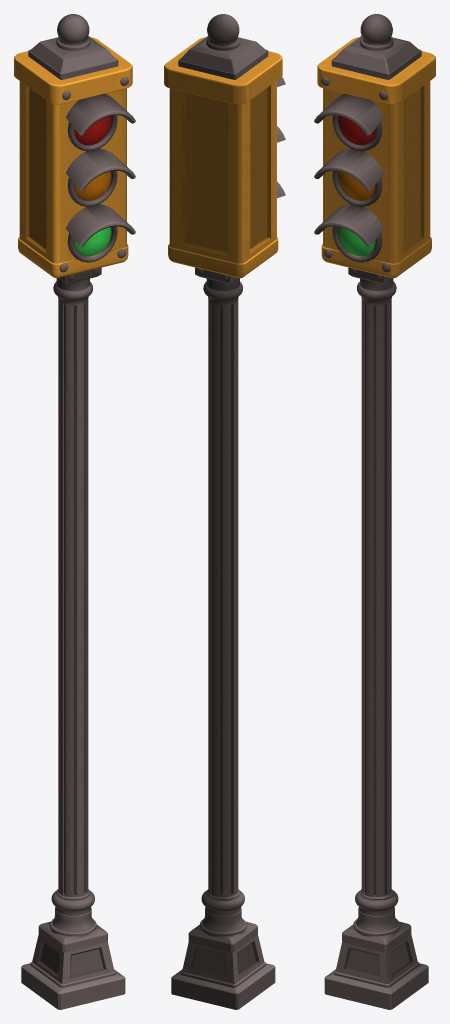
The model's file is houdini_residential_traffic_light.glb.
The picture shows the model from 3 angles, left to right: view 1: azimuth 30°, elevation 25°; view 2: azimuth 150°, elevation 25°; view 3: azimuth 330°, elevation 25°; orthographic projection.
Parts seen in each view (by area): view 1: LOD0; view 2: LOD0; view 3: LOD0.
Boxes of the visible parts, x1,y1,x2,y2 form: LOD0: (14, 14, 135, 1009); LOD0: (164, 14, 285, 1009); LOD0: (314, 14, 435, 1009).
Size of what is drawn, in the model's own units: 0.4016 by 4.5 by 0.4926.
Materials: 1 (1 with a texture image).
